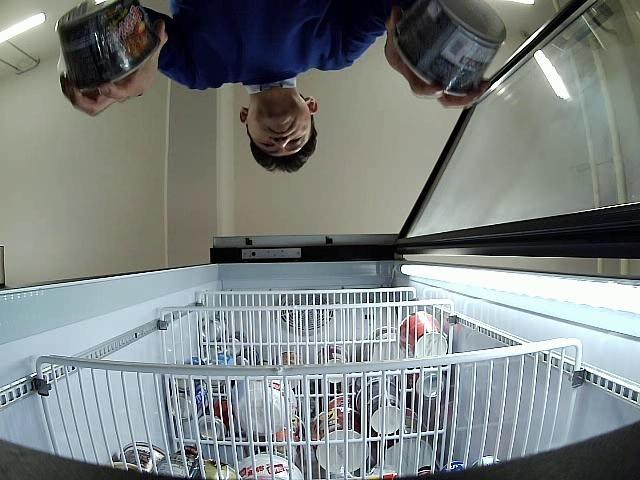07_buldak_L: (394, 0, 506, 95), (56, 0, 160, 90)
